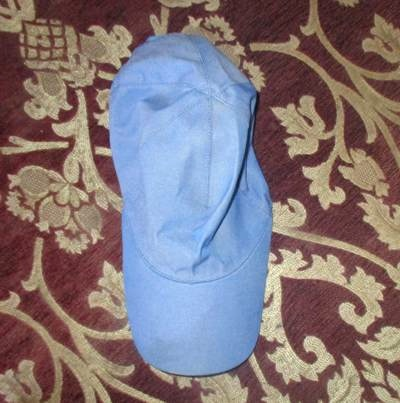Hat: (69, 15, 285, 374)
